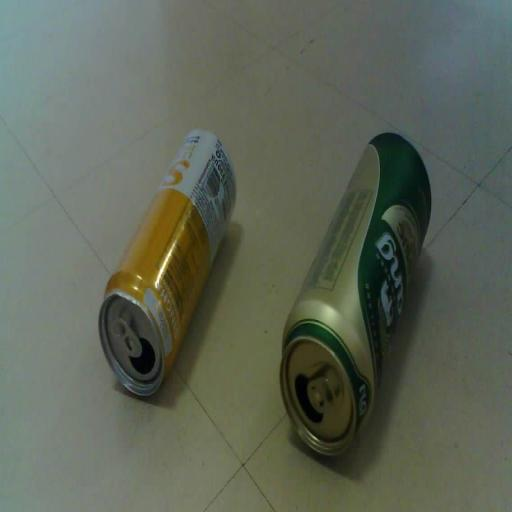canned: (258, 121, 440, 471), (80, 117, 240, 410)
